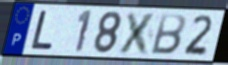1: (75, 9, 94, 54)
2: (182, 14, 213, 57)
8: (93, 10, 123, 55)
B: (148, 13, 187, 57)
L: (29, 9, 55, 51)
X: (116, 11, 160, 57)
